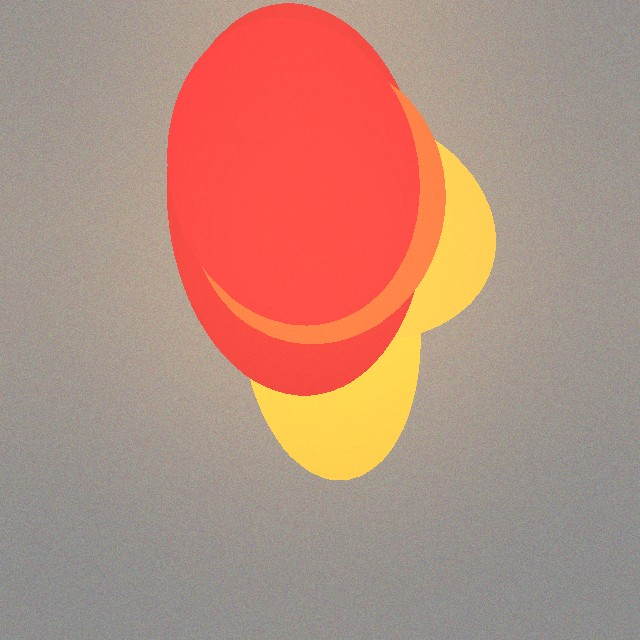fire: (208, 89, 412, 403)
